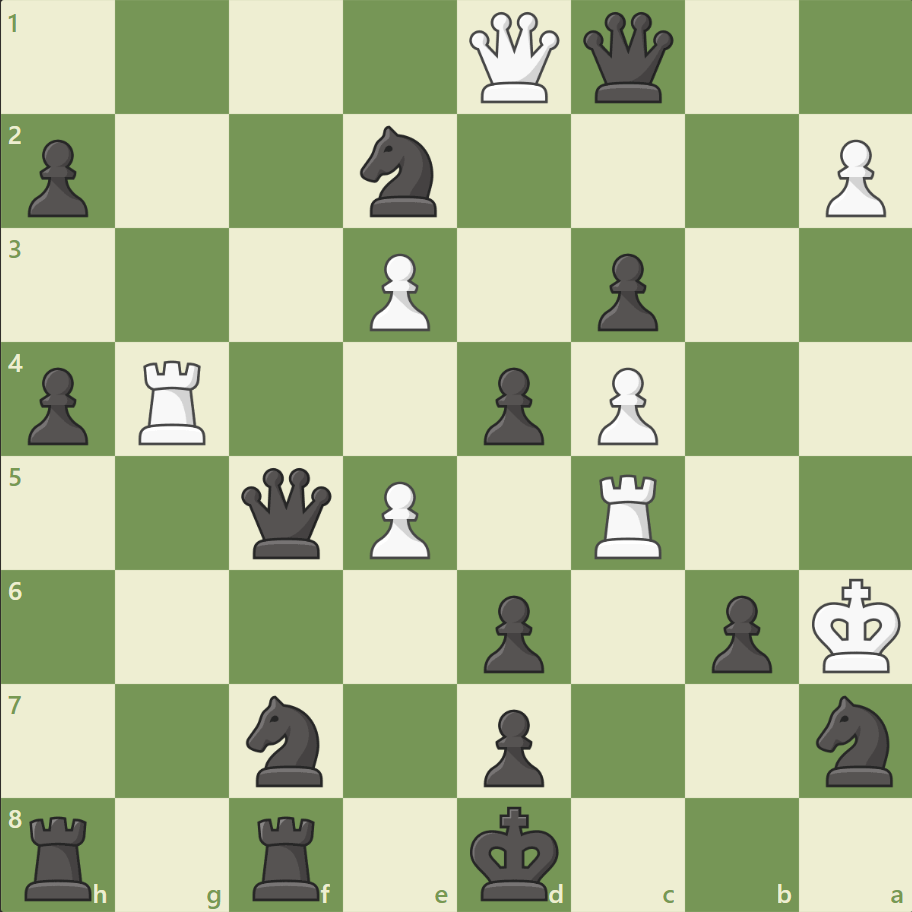K: (806, 571, 906, 679)
P: (361, 473, 435, 564), (588, 359, 662, 450), (361, 246, 435, 337), (815, 132, 889, 223)
Q: (464, 9, 563, 108)
R: (587, 466, 670, 563), (133, 352, 215, 449)
k: (465, 798, 565, 906)
n: (351, 121, 449, 223), (806, 688, 903, 791), (238, 688, 335, 791)
p: (474, 700, 549, 791), (701, 586, 776, 677), (474, 586, 549, 677), (474, 359, 549, 450), (20, 359, 95, 450), (20, 132, 95, 223), (588, 246, 662, 337)
q: (237, 463, 336, 562), (578, 9, 677, 108)
r: (246, 806, 329, 904), (19, 806, 102, 904)
